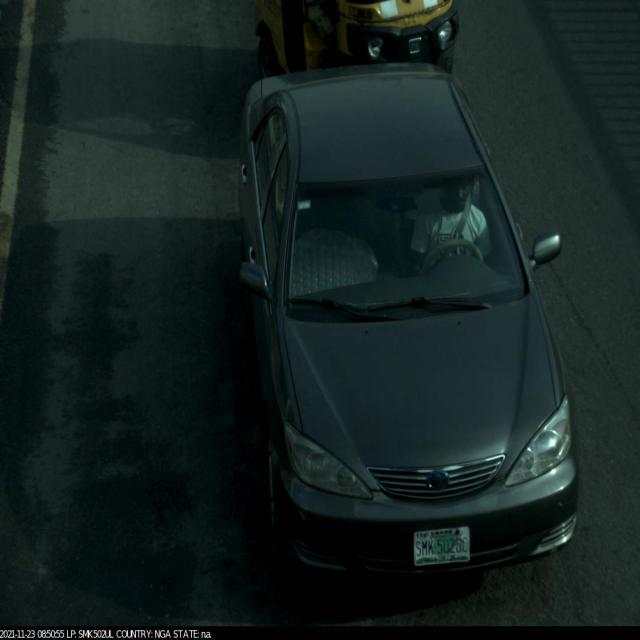windshield: (276, 160, 540, 334)
